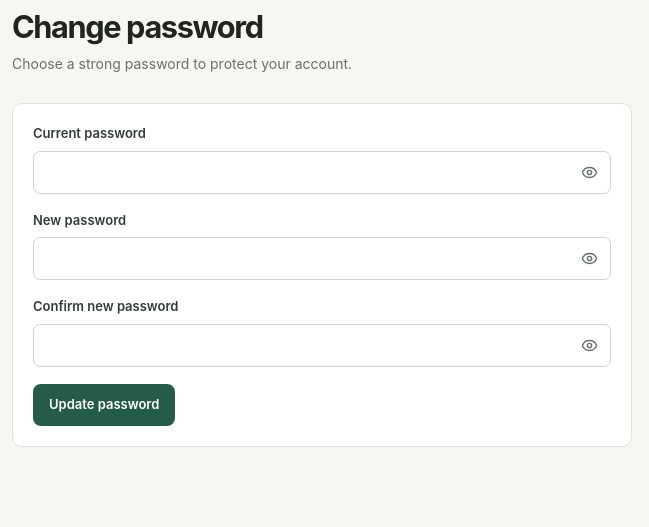
Test: account settings and expense details › explains that a password change requires a different new password
The image size is (649, 527).
Type "samePass1" into the password field labelled "Current password" at (322, 172), box [33,150,611,194]
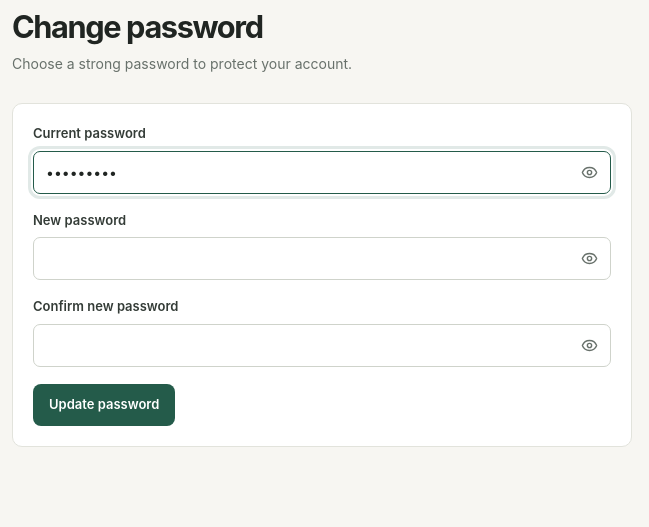
Type "samePass1" into the password field labelled "New password" at (322, 258), box [33,237,611,280]
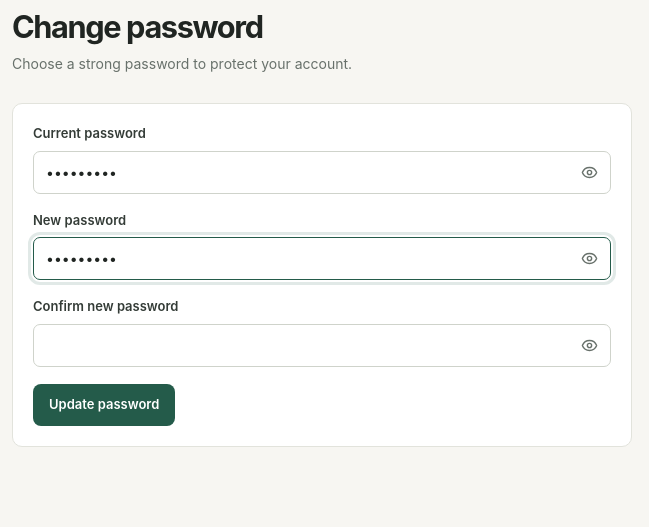
Type "samePass1" into the password field labelled "Confirm new password" at (322, 345), box [33,324,611,366]
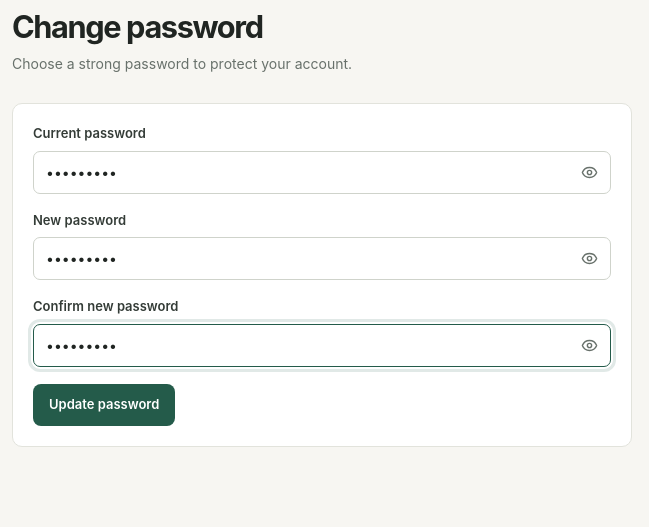
Click the button "Update password" at (104, 404), box [33,384,175,426]
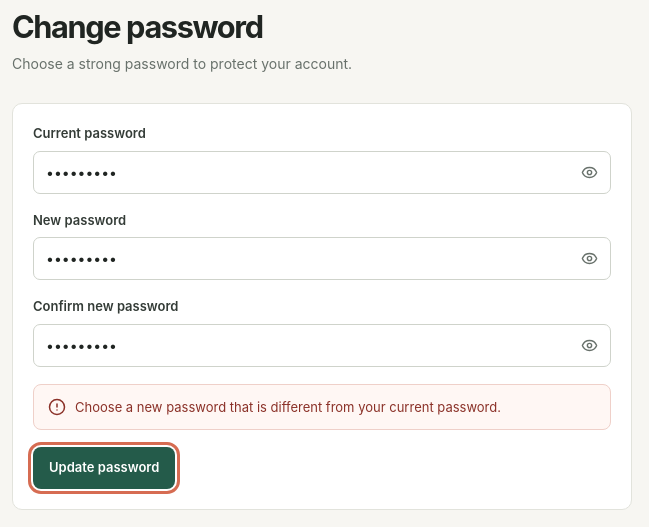
Now the text "Choose a new password that is different from your current password." is shown, box [75,398,501,416]
